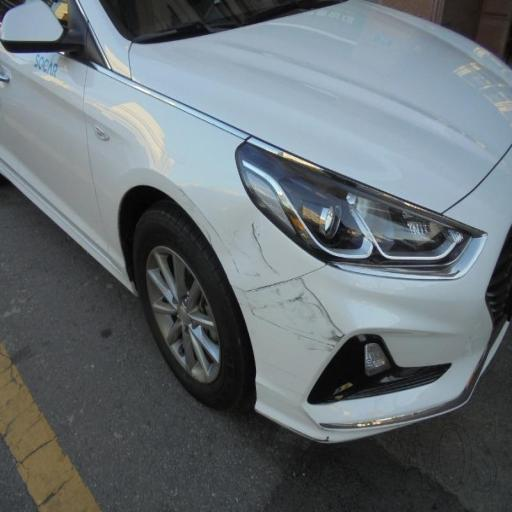scratch: (226, 208, 356, 378)
